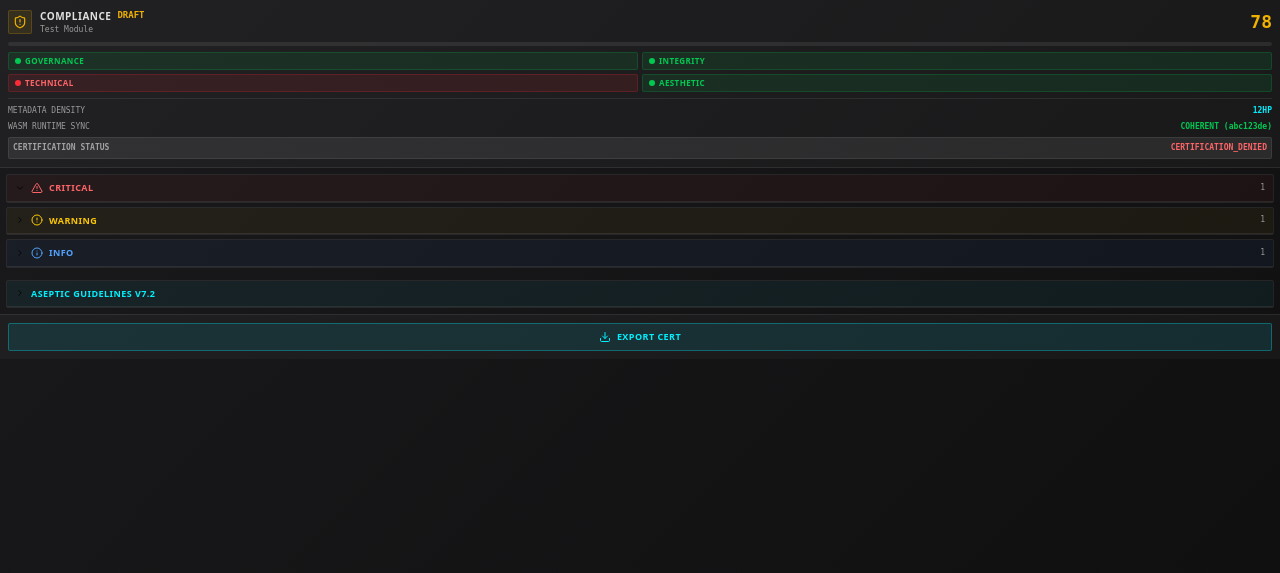
Test: CompliancePanel — guidelines › should toggle guidelines content on click
This screenshot has width=1280, height=573.
Check: the text "WASM Binding" is not shown
# Click to expand
Click the button "Aseptic Guidelines v7.2" at coordinates (93, 293), box [7, 280, 1273, 307]
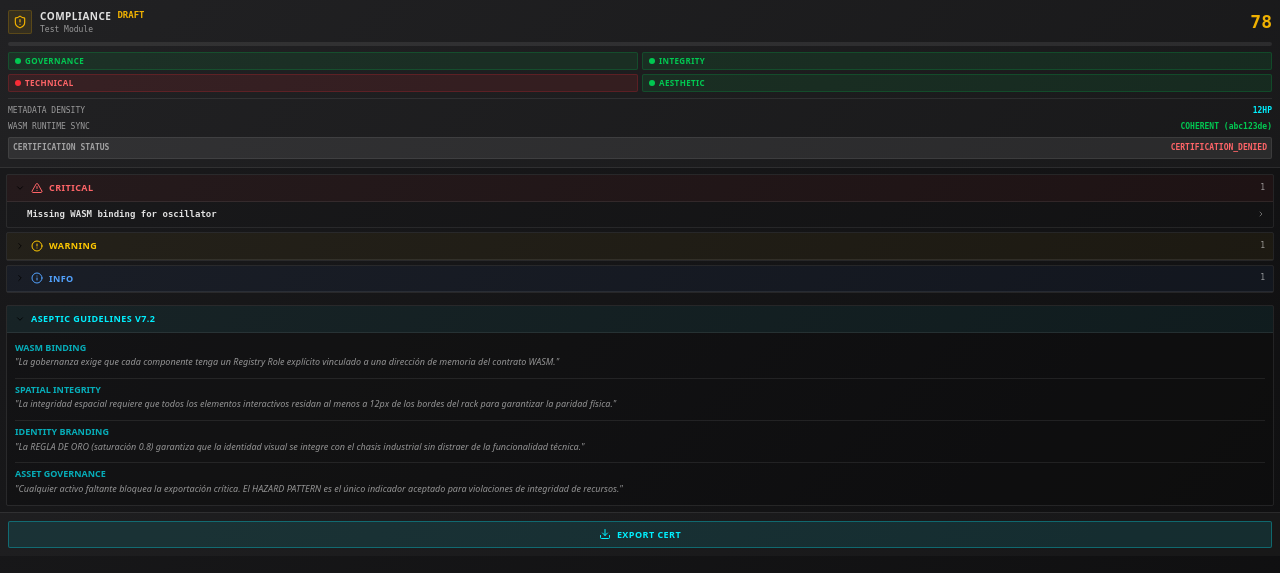
Check: the heading "WASM Binding" is shown, box [15, 340, 86, 354]
Check: the heading "Spatial Integrity" is shown, box [15, 383, 101, 396]
Check: the heading "Identity Branding" is shown, box [15, 425, 109, 438]
